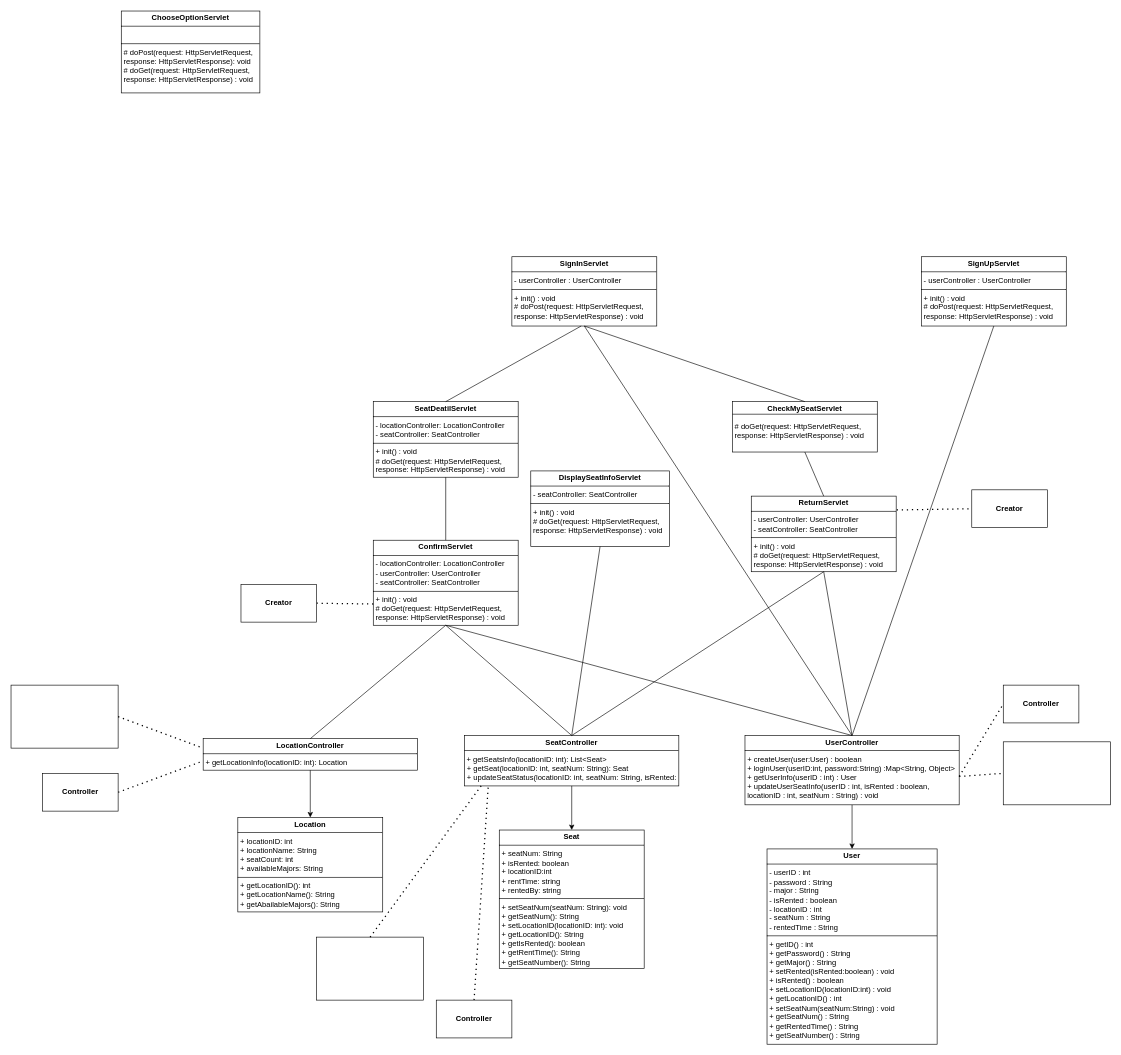
Some shapes in this 1121 by 1055 pixel diagram are drawn without their labels. The shapes that lost their labels are listed below. From the top down, each one's box as (x1, y1, x2, y2) in pixels, then its label:
(10, 684, 118, 748): Information Expert - 장소의 정보를 알고 있어야함. Method로만 데이터를 처리한다.
(1003, 741, 1110, 805): Information Expert - 사용자의 정보와 좌석을 대여했는지 여부를 알고 있어야 함. Method로만 데이터를 처리한다.
(316, 936, 424, 1000): Information Expert - 좌석 이용 여부를 알고 있어야 함. Method로만 데이터를 처리한다.
